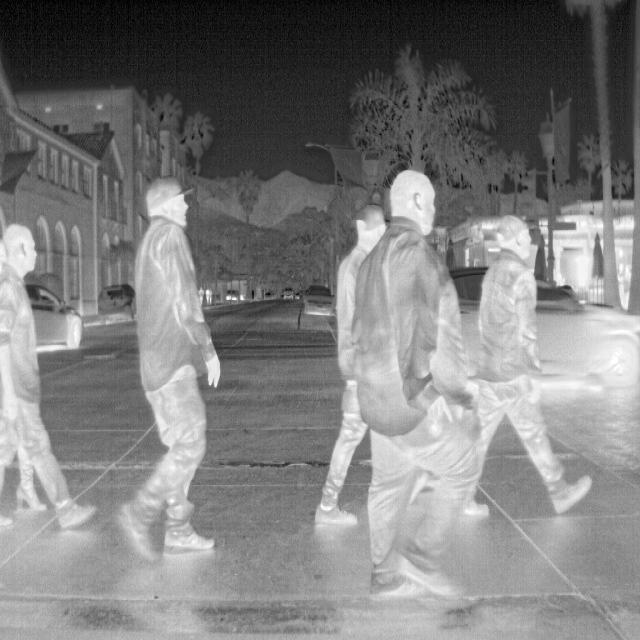Pedestrian: (353, 168, 474, 604), (449, 211, 593, 520), (113, 174, 221, 562), (1, 222, 98, 534), (313, 198, 400, 527)
